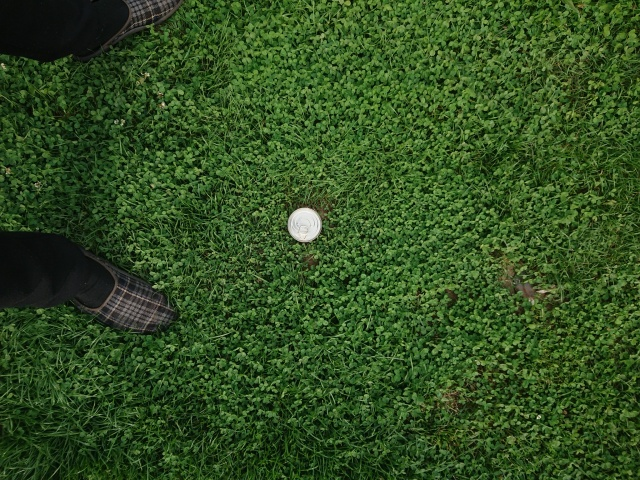Podravka Luncheon Meat 150g: (286, 206, 324, 244)
